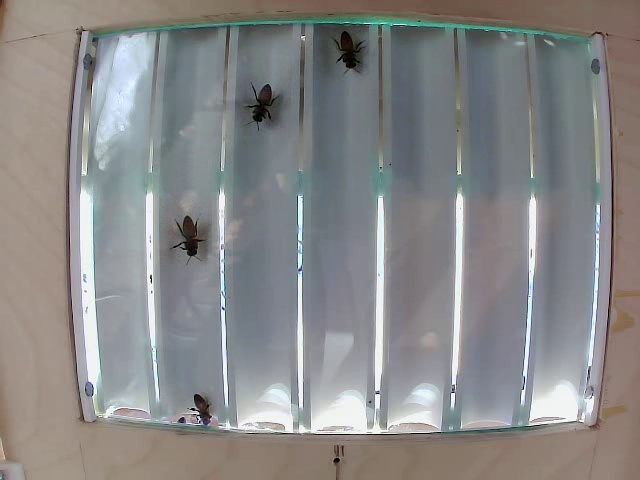bee: (177, 219, 218, 267), (241, 80, 286, 123), (340, 25, 363, 67)
